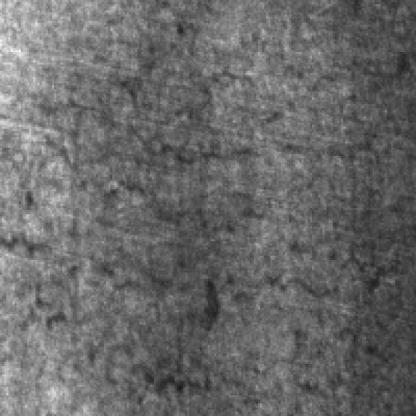crazing: (93, 68, 386, 298)
